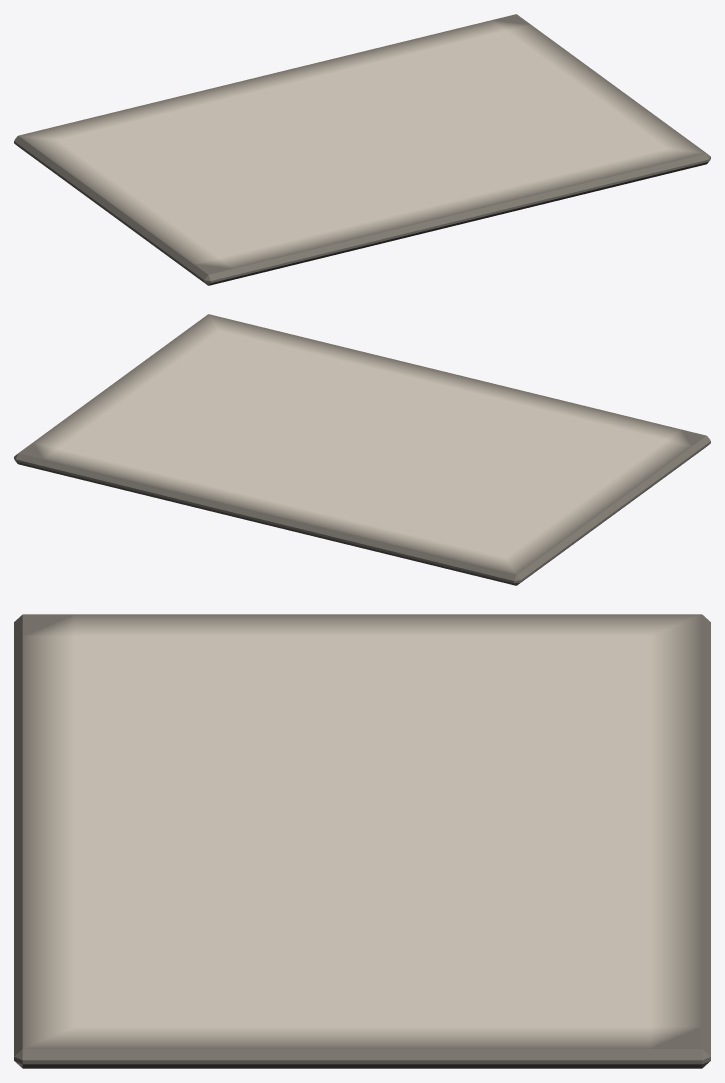
The model's file is SM_VKI_RushMat.fbx.
3 renders of one model, top to bottom at view 1: azimuth 30°, elevation 25°; view 2: azimuth 150°, elevation 25°; view 3: azimuth 270°, elevation 25°, orthographic. The views are drawn at different scales.
Parts seen in each view (by area): view 1: SM_VKI_RushMat.001; view 2: SM_VKI_RushMat.001; view 3: SM_VKI_RushMat.001.
Part boxes in pixels (x1,y1,x2,y2): SM_VKI_RushMat.001: (14,14,710,285); SM_VKI_RushMat.001: (14,314,710,585); SM_VKI_RushMat.001: (14,614,710,1068).
Size of the model in its own units: 1.2 by 0.025 by 0.8.
